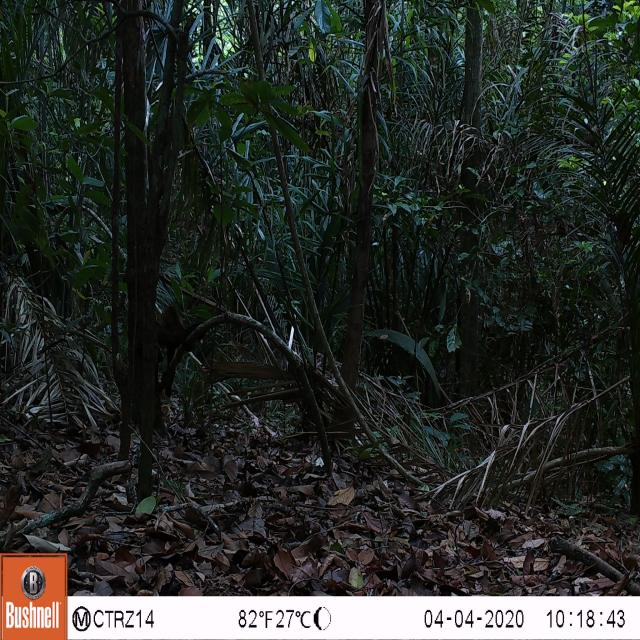Margarita Island Capuchin: (152, 302, 195, 398)
